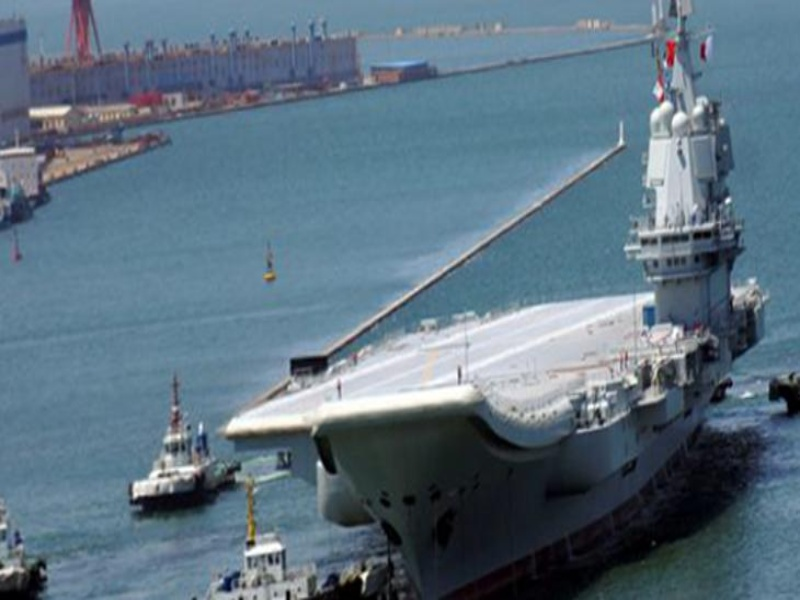boat: (125, 386, 229, 508), (207, 524, 314, 600), (2, 512, 40, 588)
carrier: (250, 157, 767, 588)
